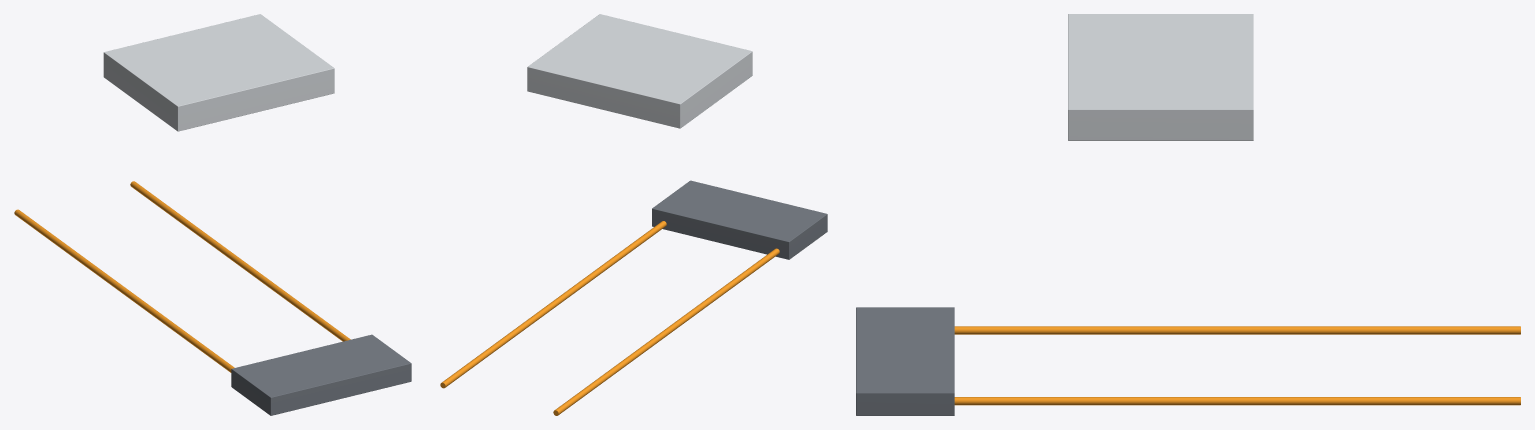
File: engine.glb
The picture shows the model from 3 angles, left to right: view 1: azimuth 30°, elevation 25°; view 2: azimuth 150°, elevation 25°; view 3: azimuth 270°, elevation 25°; orthographic projection. The views are drawn at different scales.
Parts seen in each view (by area): view 1: BODY_Roof_Battery_Pack_HighVoltage, CHASSIS_Rear_Portal_Axle_Cradle, CHASSIS_HV_Conduit_R, CHASSIS_HV_Conduit_L; view 2: BODY_Roof_Battery_Pack_HighVoltage, CHASSIS_Rear_Portal_Axle_Cradle, CHASSIS_HV_Conduit_L, CHASSIS_HV_Conduit_R; view 3: BODY_Roof_Battery_Pack_HighVoltage, CHASSIS_Rear_Portal_Axle_Cradle, CHASSIS_HV_Conduit_R, CHASSIS_HV_Conduit_L.
Part boxes in pixels (box(x1,y1,x2,y2)): BODY_Roof_Battery_Pack_HighVoltage: box(103, 14, 334, 131); CHASSIS_Rear_Portal_Axle_Cradle: box(231, 334, 411, 415); CHASSIS_HV_Conduit_R: box(14, 209, 234, 372); CHASSIS_HV_Conduit_L: box(130, 181, 350, 341); BODY_Roof_Battery_Pack_HighVoltage: box(527, 14, 752, 128); CHASSIS_Rear_Portal_Axle_Cradle: box(652, 180, 827, 259); CHASSIS_HV_Conduit_L: box(440, 221, 666, 388); CHASSIS_HV_Conduit_R: box(553, 248, 779, 415); BODY_Roof_Battery_Pack_HighVoltage: box(1068, 14, 1253, 140); CHASSIS_Rear_Portal_Axle_Cradle: box(856, 307, 954, 415); CHASSIS_HV_Conduit_R: box(954, 326, 1520, 334); CHASSIS_HV_Conduit_L: box(954, 397, 1520, 405).
Bounding box in the file's own units: 1.95 × 2.96 × 5.72.
